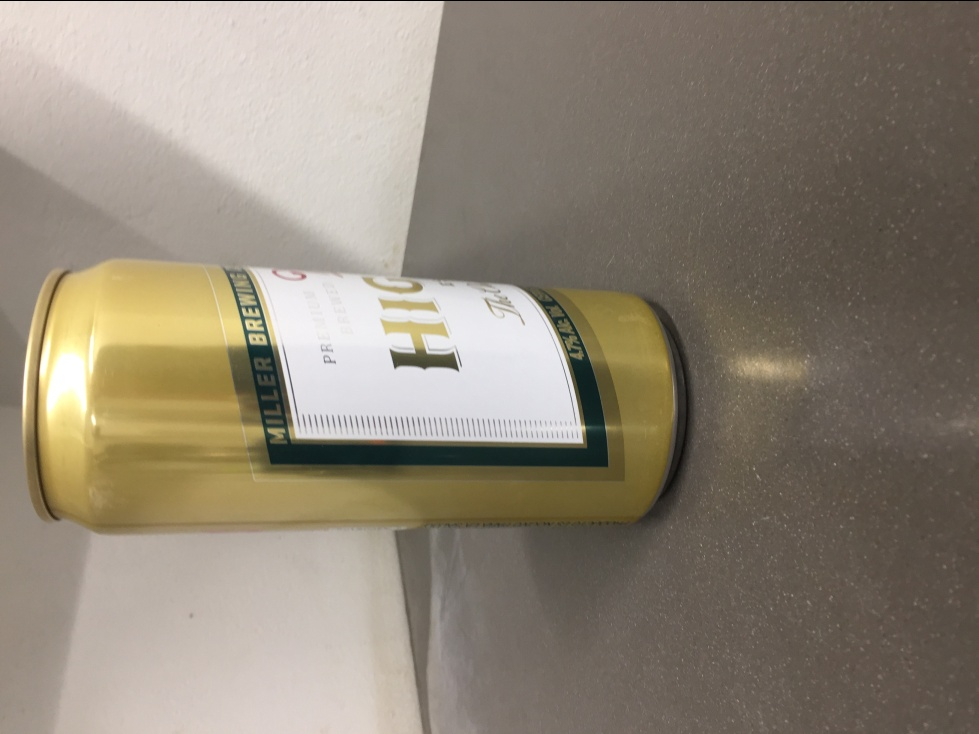miller: (19, 254, 684, 531)
